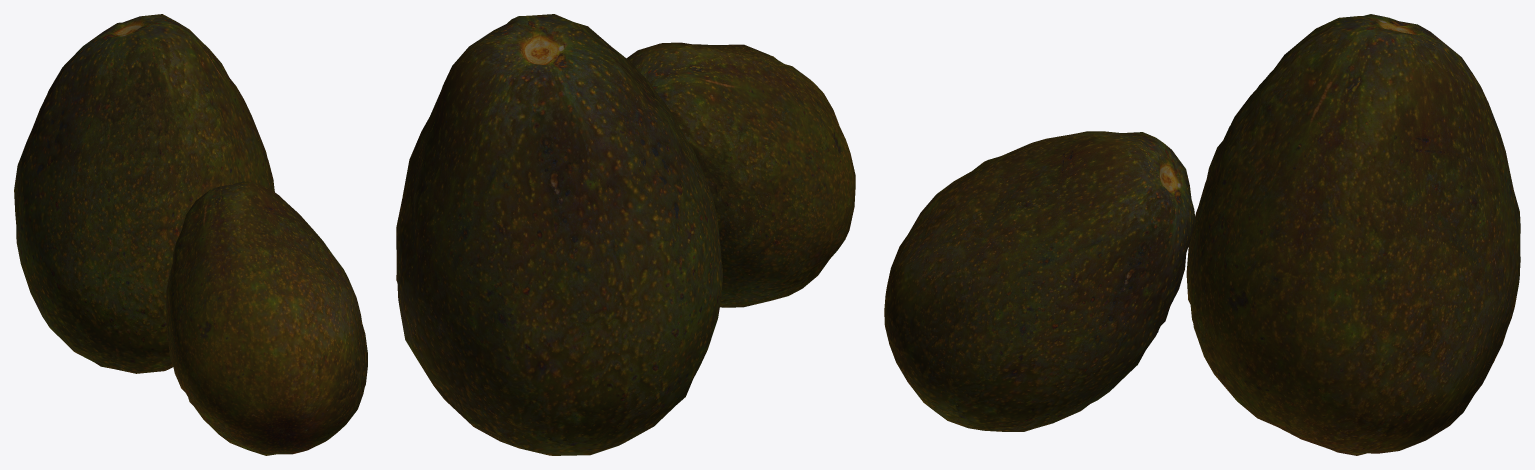
Rendered from Avocados.glb.
The picture shows the model from 3 angles, left to right: view 1: azimuth 30°, elevation 25°; view 2: azimuth 150°, elevation 25°; view 3: azimuth 270°, elevation 25°; orthographic projection. The views are drawn at different scales.
Parts seen in each view (by area): view 1: Object_2.003; view 2: Object_2.003; view 3: Object_2.003.
Part boxes in pixels (x1,y1,x2,y2): Object_2.003: [14, 14, 367, 455]; Object_2.003: [396, 14, 855, 455]; Object_2.003: [884, 14, 1520, 455].
Bounding box in the file's own units: 0.0715 × 0.0989 × 0.1334.
Materials: 1 (1 with a texture image).
